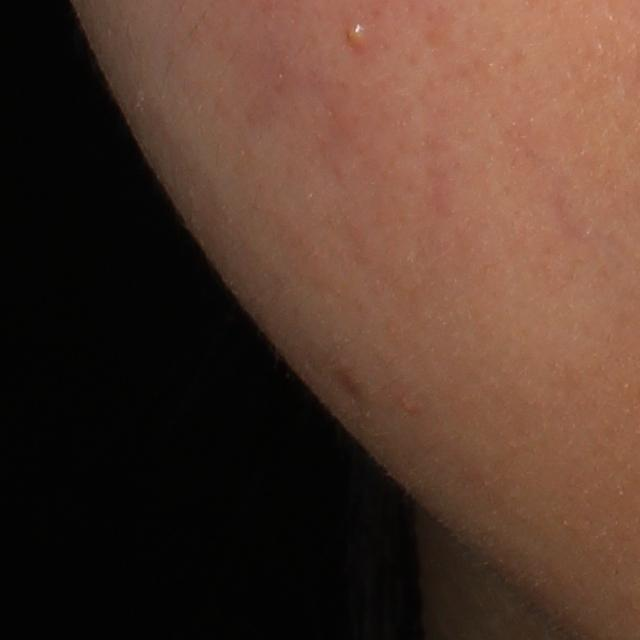pustule: (344, 20, 370, 50)
